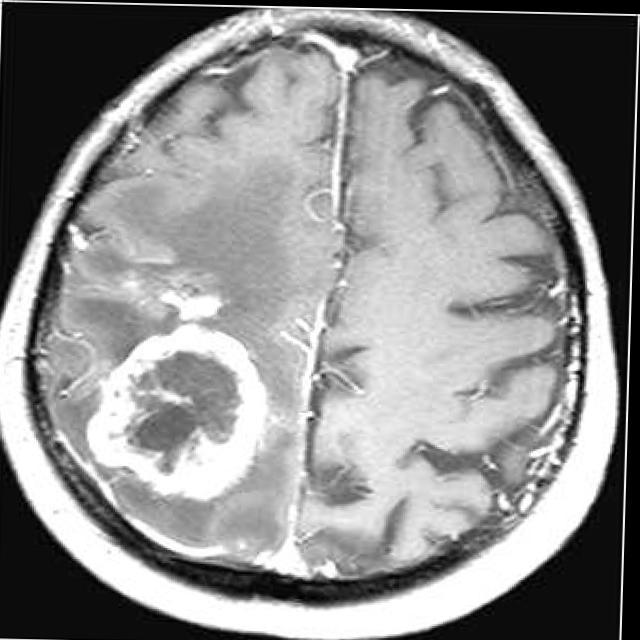Tumor: (90, 323, 270, 494)
